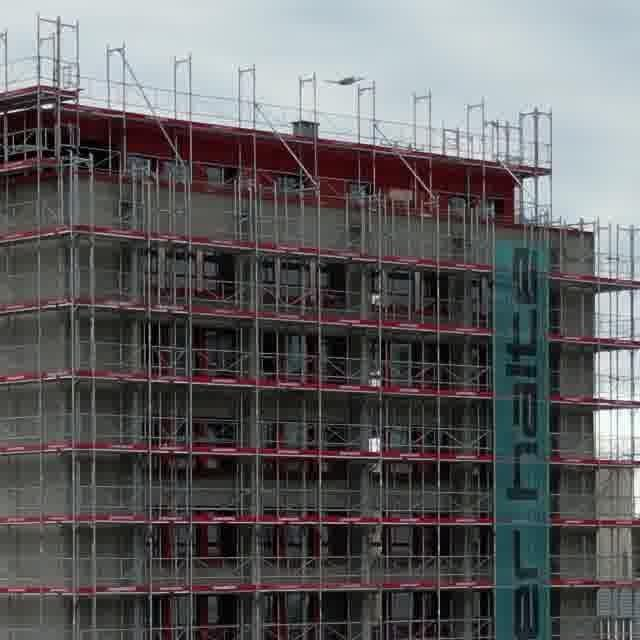Drohne: (327, 76, 363, 85)
